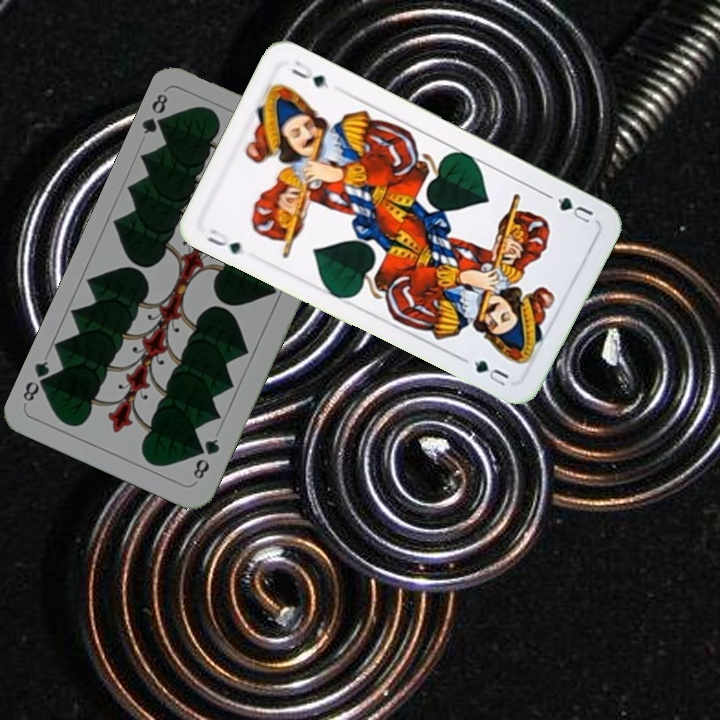G8: (138, 89, 173, 137), (189, 434, 222, 482)
GU: (202, 225, 248, 258), (553, 193, 596, 228)
